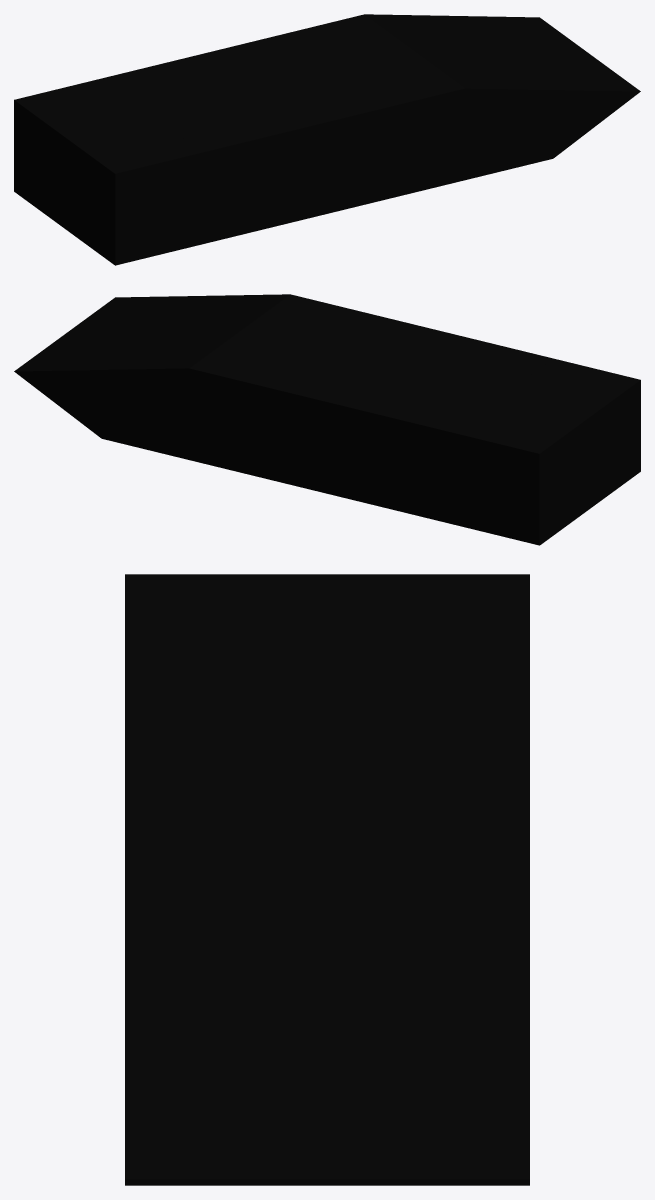
File: Ship.obj
The picture shows the model from 3 angles, top to bottom: view 1: azimuth 30°, elevation 25°; view 2: azimuth 150°, elevation 25°; view 3: azimuth 270°, elevation 25°; orthographic projection. The views are drawn at different scales.
Visible parts, largest first — view 1: Default; view 2: Default; view 3: Default.
Boxes of the visible parts, <box> form: Default: <box>14,14,640,265</box>; Default: <box>14,294,640,545</box>; Default: <box>125,574,529,1185</box>.
Size of the model in its own units: 6 by 1 by 2.
